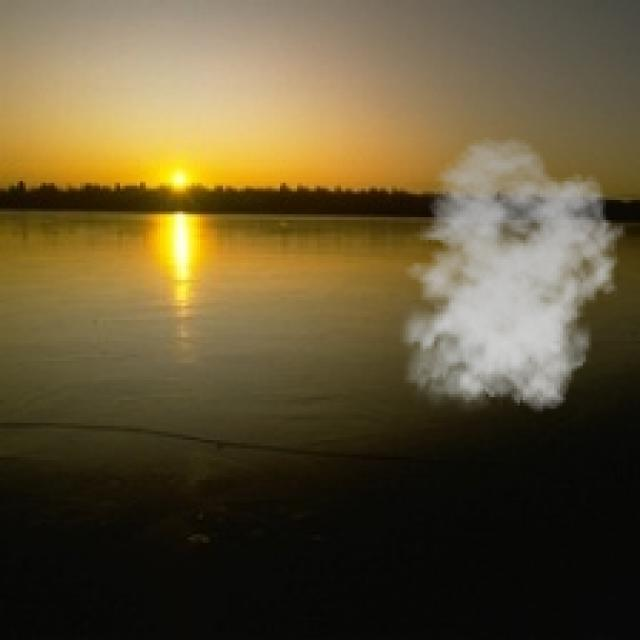smoke: (388, 137, 626, 420)
